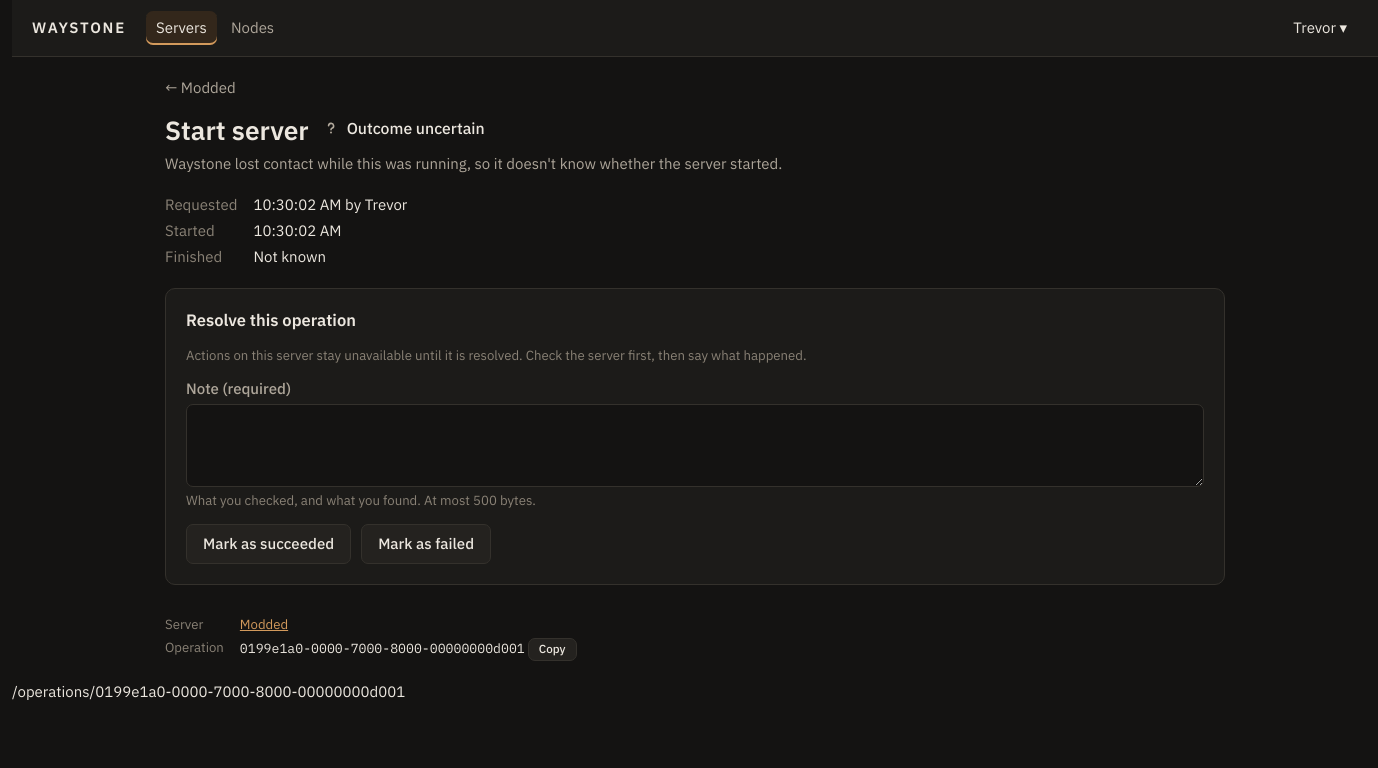
operation details (wireframes §4) › resolve refused: says why (a non-admin, later)
This screenshot has width=1378, height=768.
Type "ok" into the text box labelled "Note (required)".
click(695, 445); type("ok")  # box [186, 404, 1204, 487]
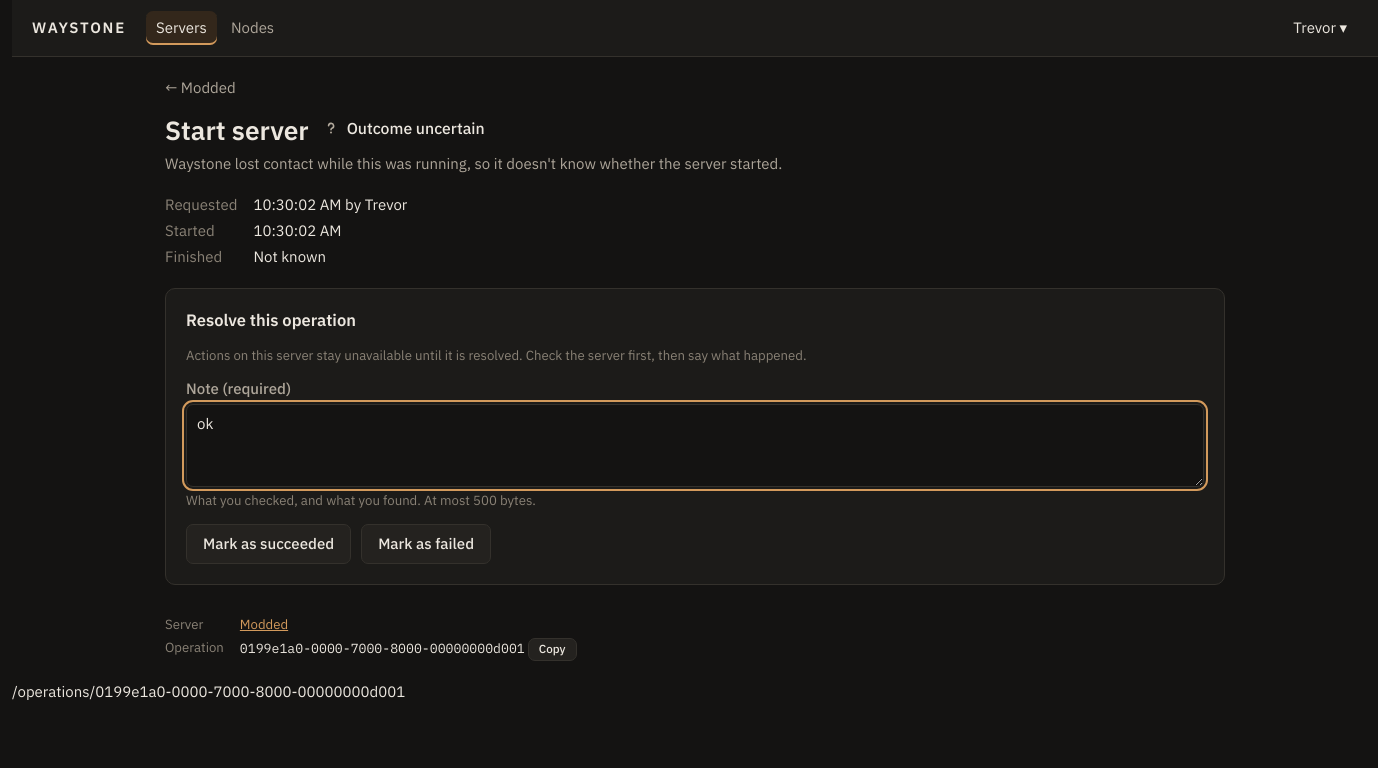
Click the button "Mark as succeeded".
click(269, 544)  # box [186, 524, 351, 564]
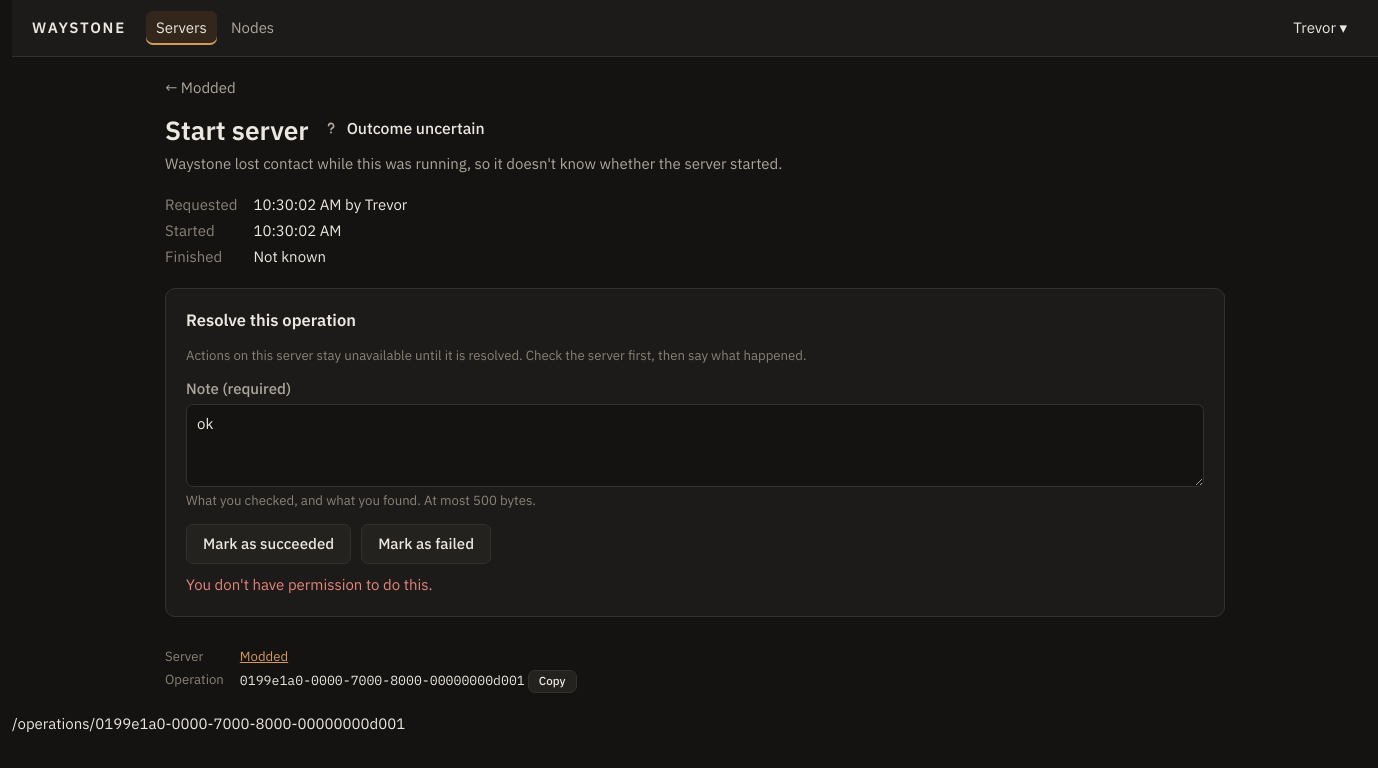
Now the text "You don't have permission to do this." is shown, box [186, 575, 432, 594]
